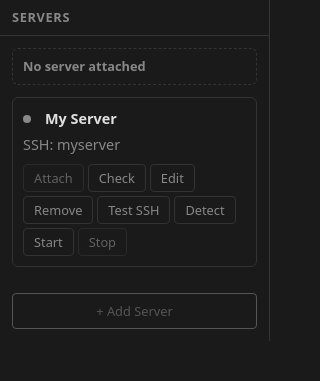
Test: Detect button shows result message
This screenshot has width=320, height=381.
Expected: the element with test id "server-card-ssh-1" is shown, top-left (12, 97), bottom-right (257, 267)
Click the button with test id "detect-ssh-1" at {"x": 205, "y": 210}, box top-left (174, 196), bottom-right (236, 224)
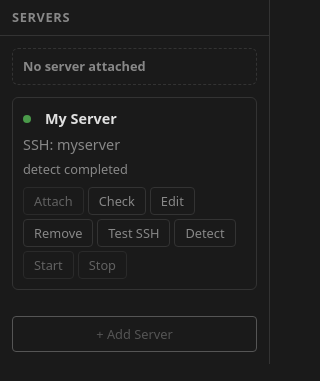
Expected: the text with test id "action-msg-ssh-1" reads "detect completed", top-left (23, 160), bottom-right (128, 178)
